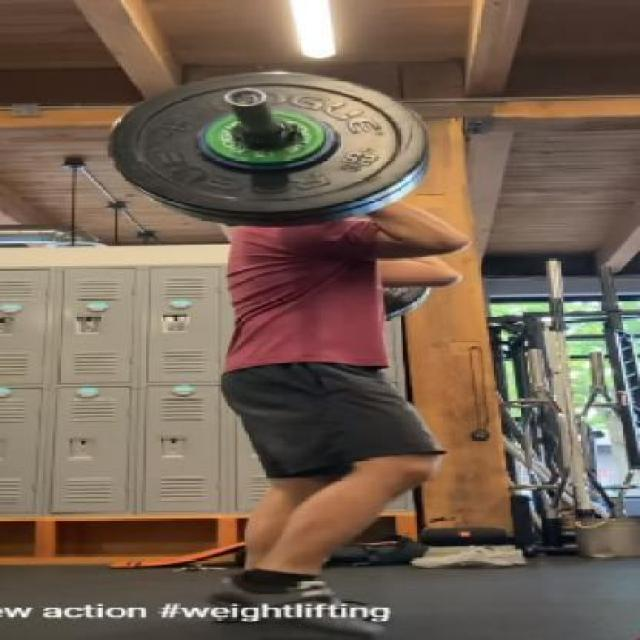Barbell: (224, 86, 272, 108)
